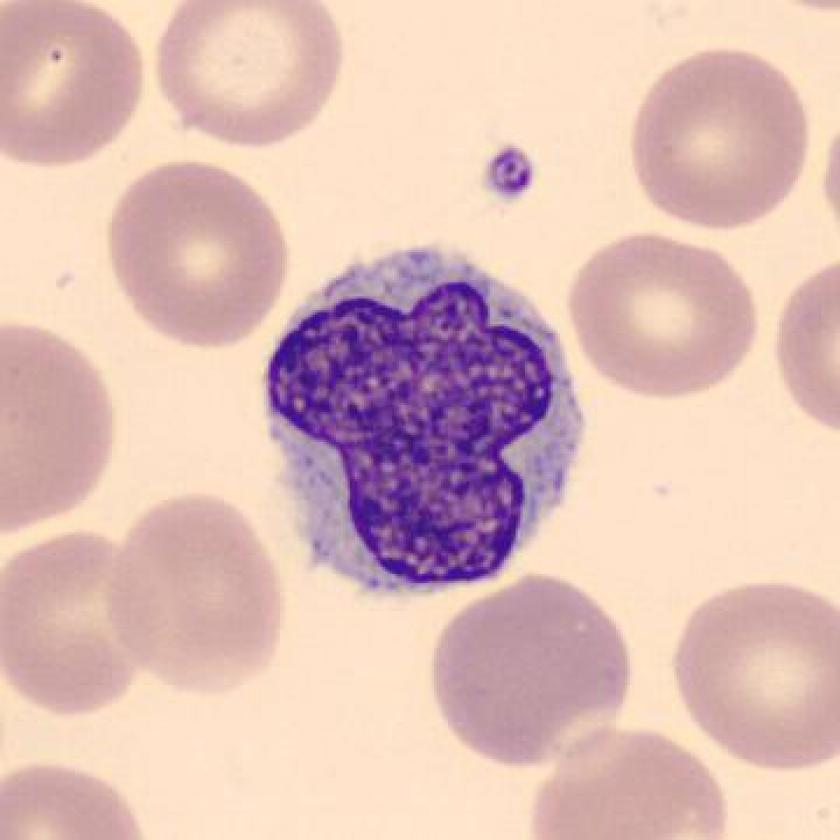monocyte: (242, 230, 613, 614)
